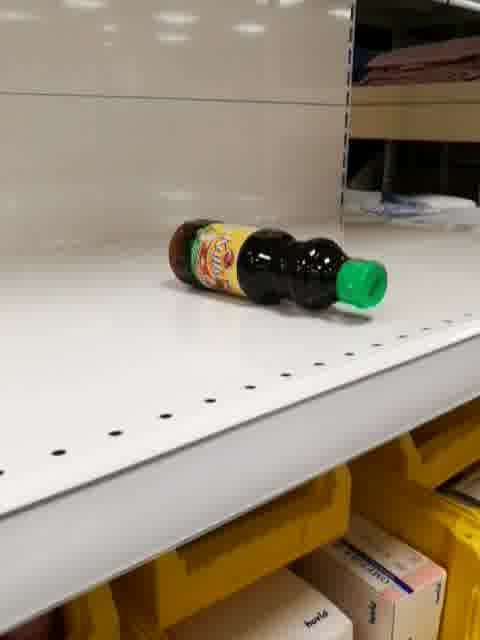cookingoil: (164, 217, 390, 315)
